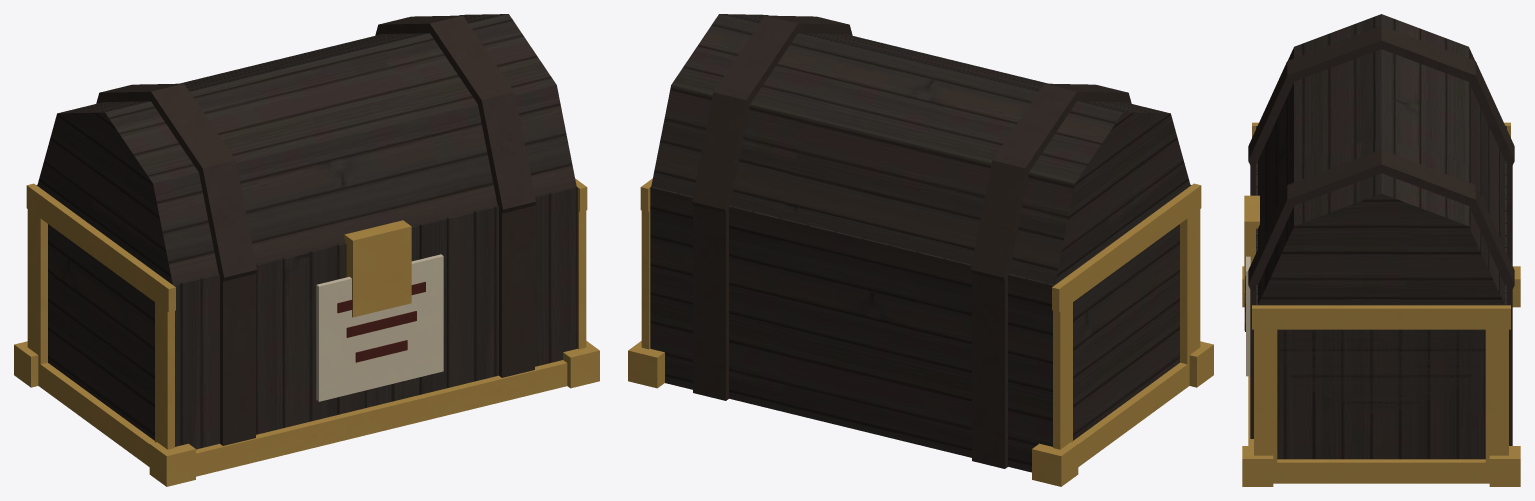
The model's file is chest_bounty_01.glb.
3 views of the same model, side by side, from view 1: azimuth 30°, elevation 25°; view 2: azimuth 150°, elevation 25°; view 3: azimuth 270°, elevation 25° (orthographic). The views are drawn at different scales.
Parts seen in each view (by area): view 1: chest_bounty_01; view 2: chest_bounty_01; view 3: chest_bounty_01.
Part boxes in pixels (x1,y1,x2,y2): chest_bounty_01: (14, 14, 599, 486); chest_bounty_01: (628, 14, 1213, 486); chest_bounty_01: (1242, 14, 1520, 486).
Size of the model in its own units: 1.18 by 0.845 by 0.72.
5 materials, 5 textured.
